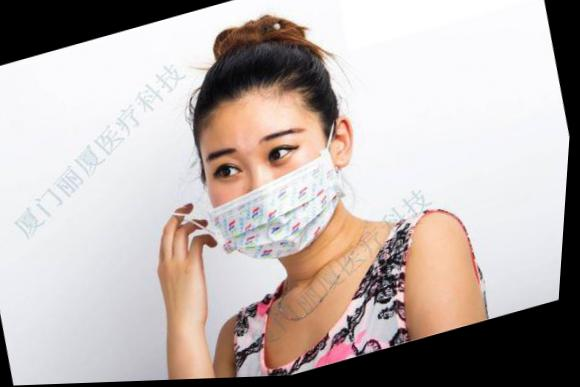WRONG: (189, 103, 364, 279)
